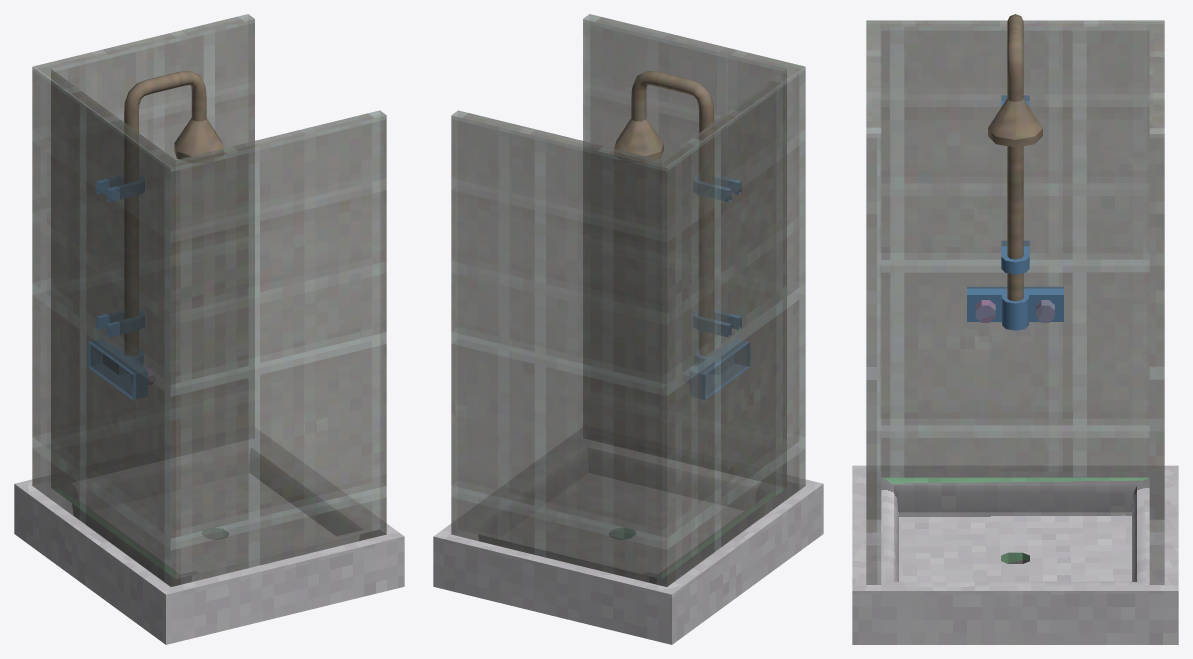
Rendered from Shower.fbx.
The picture shows the model from 3 angles, left to right: view 1: azimuth 30°, elevation 25°; view 2: azimuth 150°, elevation 25°; view 3: azimuth 270°, elevation 25°; orthographic projection. The views are drawn at different scales.
Visible parts, largest first — view 1: Shower; view 2: Shower; view 3: Shower.
Boxes of the visible parts, x1,y1,x2,y2 form: Shower: [14, 14, 404, 644]; Shower: [433, 14, 823, 644]; Shower: [852, 14, 1178, 644].
Bounding box in the file's own units: 99.4 × 197 × 109.
